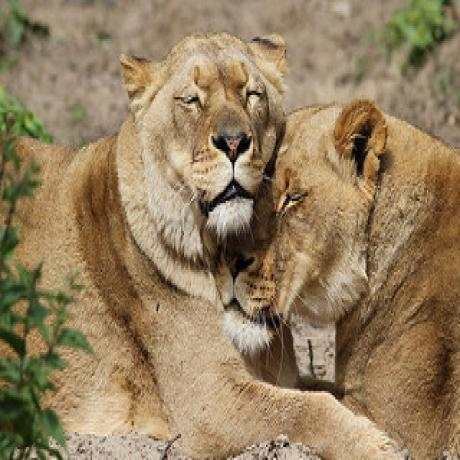Lion: (0, 32, 293, 460), (221, 100, 460, 460)
